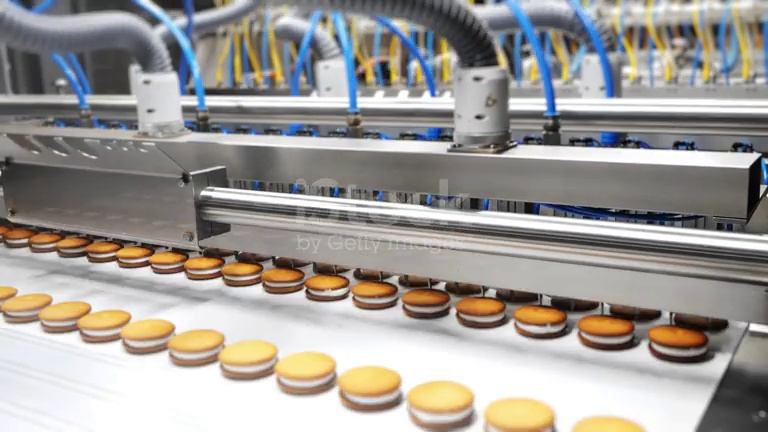machine: (0, 23, 754, 233)
produit: (401, 374, 480, 420), (277, 350, 341, 394), (340, 363, 400, 407), (220, 337, 275, 381), (487, 398, 553, 432), (651, 323, 709, 359), (579, 313, 633, 349), (167, 326, 217, 364), (121, 315, 169, 354), (512, 309, 567, 341), (38, 300, 90, 332), (401, 288, 454, 318), (80, 305, 125, 340), (304, 270, 348, 304), (455, 297, 506, 323), (261, 264, 300, 297), (351, 283, 396, 310), (10, 289, 43, 325), (577, 417, 651, 432), (221, 262, 261, 287), (185, 255, 223, 281), (152, 248, 185, 272), (88, 240, 118, 263), (2, 225, 31, 248), (118, 246, 147, 269), (56, 234, 86, 255), (29, 232, 59, 251)
